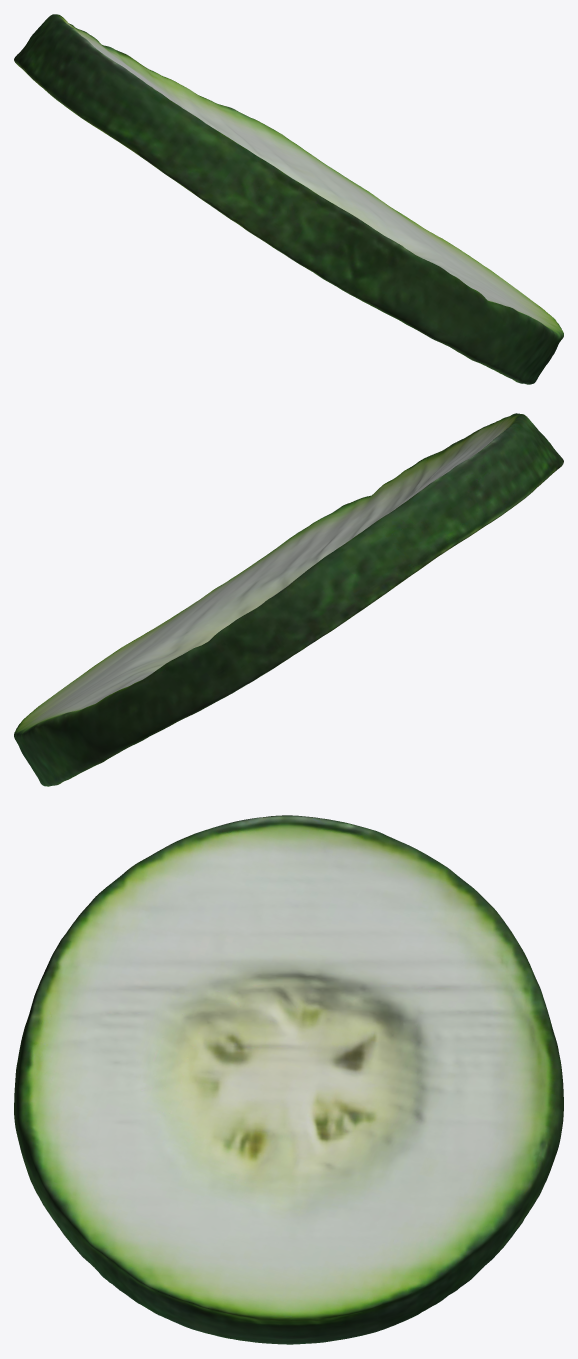
The model's file is Cucumber.fbx.
3 renders of one model, top to bottom at view 1: azimuth 30°, elevation 25°; view 2: azimuth 150°, elevation 25°; view 3: azimuth 270°, elevation 25°, orthographic. The views are drawn at different scales.
Parts seen in each view (by area): view 1: high_poly; view 2: high_poly; view 3: high_poly.
Part boxes in pixels (x1,y1,x2,y2): high_poly: (14,14,563,384); high_poly: (14,413,563,786); high_poly: (14,815,563,1344).
Bounding box in the file's own units: 87.13 × 71.58 × 100.
